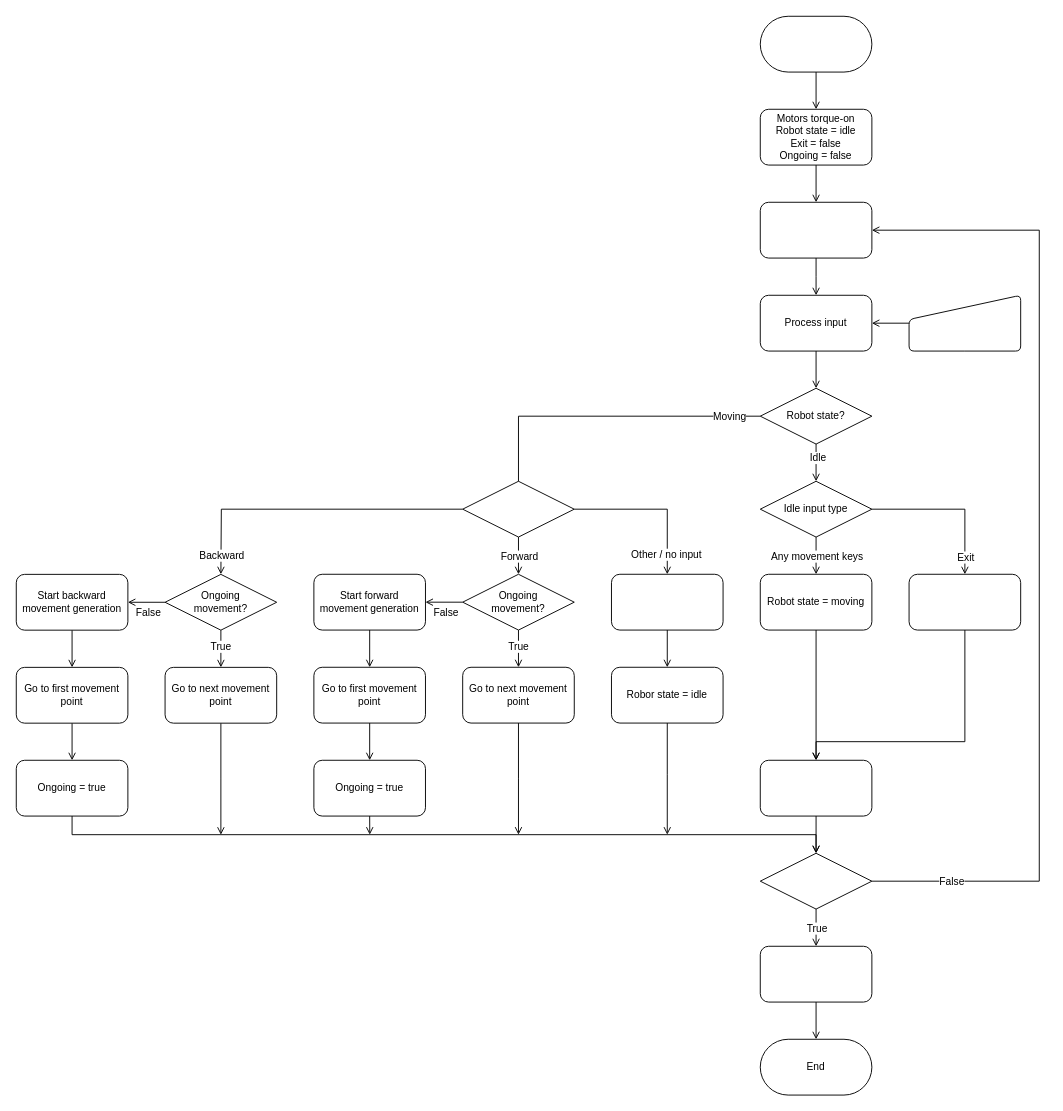
This 1063x1111 diagram has some shape labels left out. Each missing label, with the centre of its shape:
"Exit = true" belongs at (x=964, y=601).
"Exit?" belongs at (x=815, y=880).
"Get battery level every 1 minute in idle" belongs at (x=815, y=787).
"Keyboard input" belongs at (x=964, y=322).
"Main loop start" belongs at (x=815, y=229).
"Motors torque-off" belongs at (x=815, y=973).
"Moving input type" belongs at (x=518, y=508).
"Start" belongs at (x=815, y=43).
"Transition to idle" belongs at (x=667, y=601).
